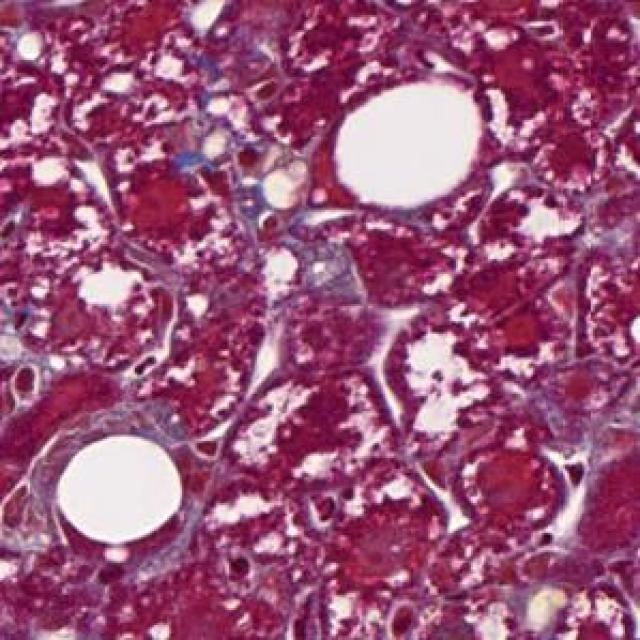steatosis: (334, 70, 486, 210), (56, 435, 186, 550)
